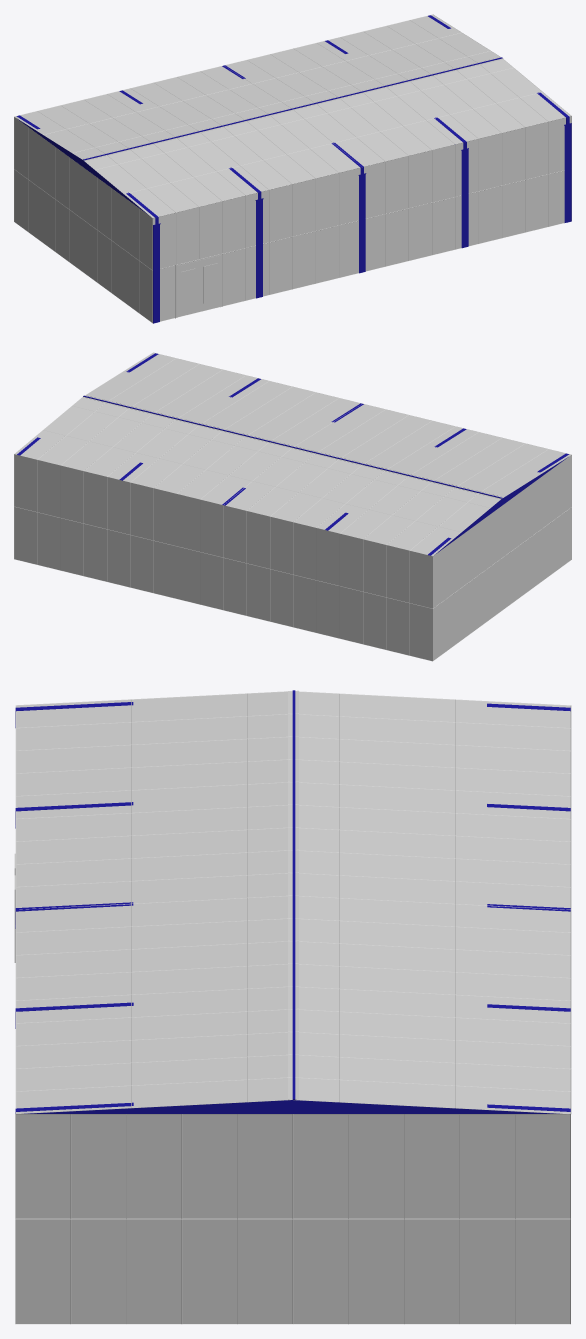
File: Building.fbx
3 views of the same model, one above another, from view 1: azimuth 30°, elevation 25°; view 2: azimuth 150°, elevation 25°; view 3: azimuth 270°, elevation 25° (orthographic). The views are drawn at different scales.
Visible parts, largest first — view 1: Wall_01, Roof_02, Roof_01, Wall_04, Pylons_01, Roof_Bars, Doors, Door_Windows, RoofSupport; view 2: Wall_02, Roof_01, Roof_02, Wall_04, Roof_Bars, RoofSupport; view 3: Wall_03, Roof_01, Roof_02, Roof_Bars, RoofSupport.
Boxes of the visible parts, box(x1,y1,x2,y2) form: Wall_01: box(152, 116, 571, 323); Roof_02: box(82, 57, 571, 218); Roof_01: box(14, 14, 503, 161); Wall_04: box(14, 117, 152, 322); Pylons_01: box(153, 124, 571, 323); Roof_Bars: box(16, 15, 571, 225); Doors: box(176, 254, 222, 317); Door_Windows: box(181, 263, 217, 308); RoofSupport: box(83, 57, 502, 160); Wall_02: box(14, 454, 432, 661); Roof_01: box(14, 395, 502, 556); Roof_02: box(82, 352, 571, 499); Wall_04: box(433, 455, 571, 660); Roof_Bars: box(17, 353, 568, 555); RoofSupport: box(83, 395, 502, 499); Wall_03: box(15, 1114, 570, 1324); Roof_01: box(288, 691, 571, 1114); Roof_02: box(15, 690, 298, 1113); Roof_Bars: box(15, 702, 570, 1113); RoofSupport: box(292, 690, 295, 1101).
Bounding box in the file's own units: 4502 × 1163 × 2588.
